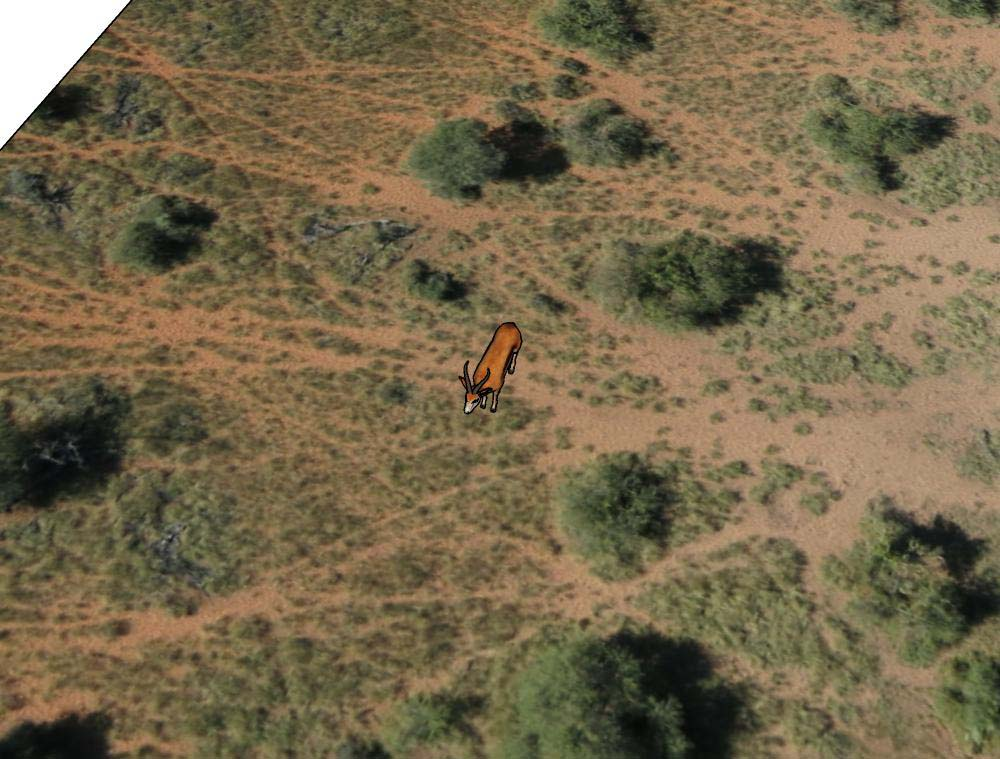springbok: (456, 314, 531, 417)
